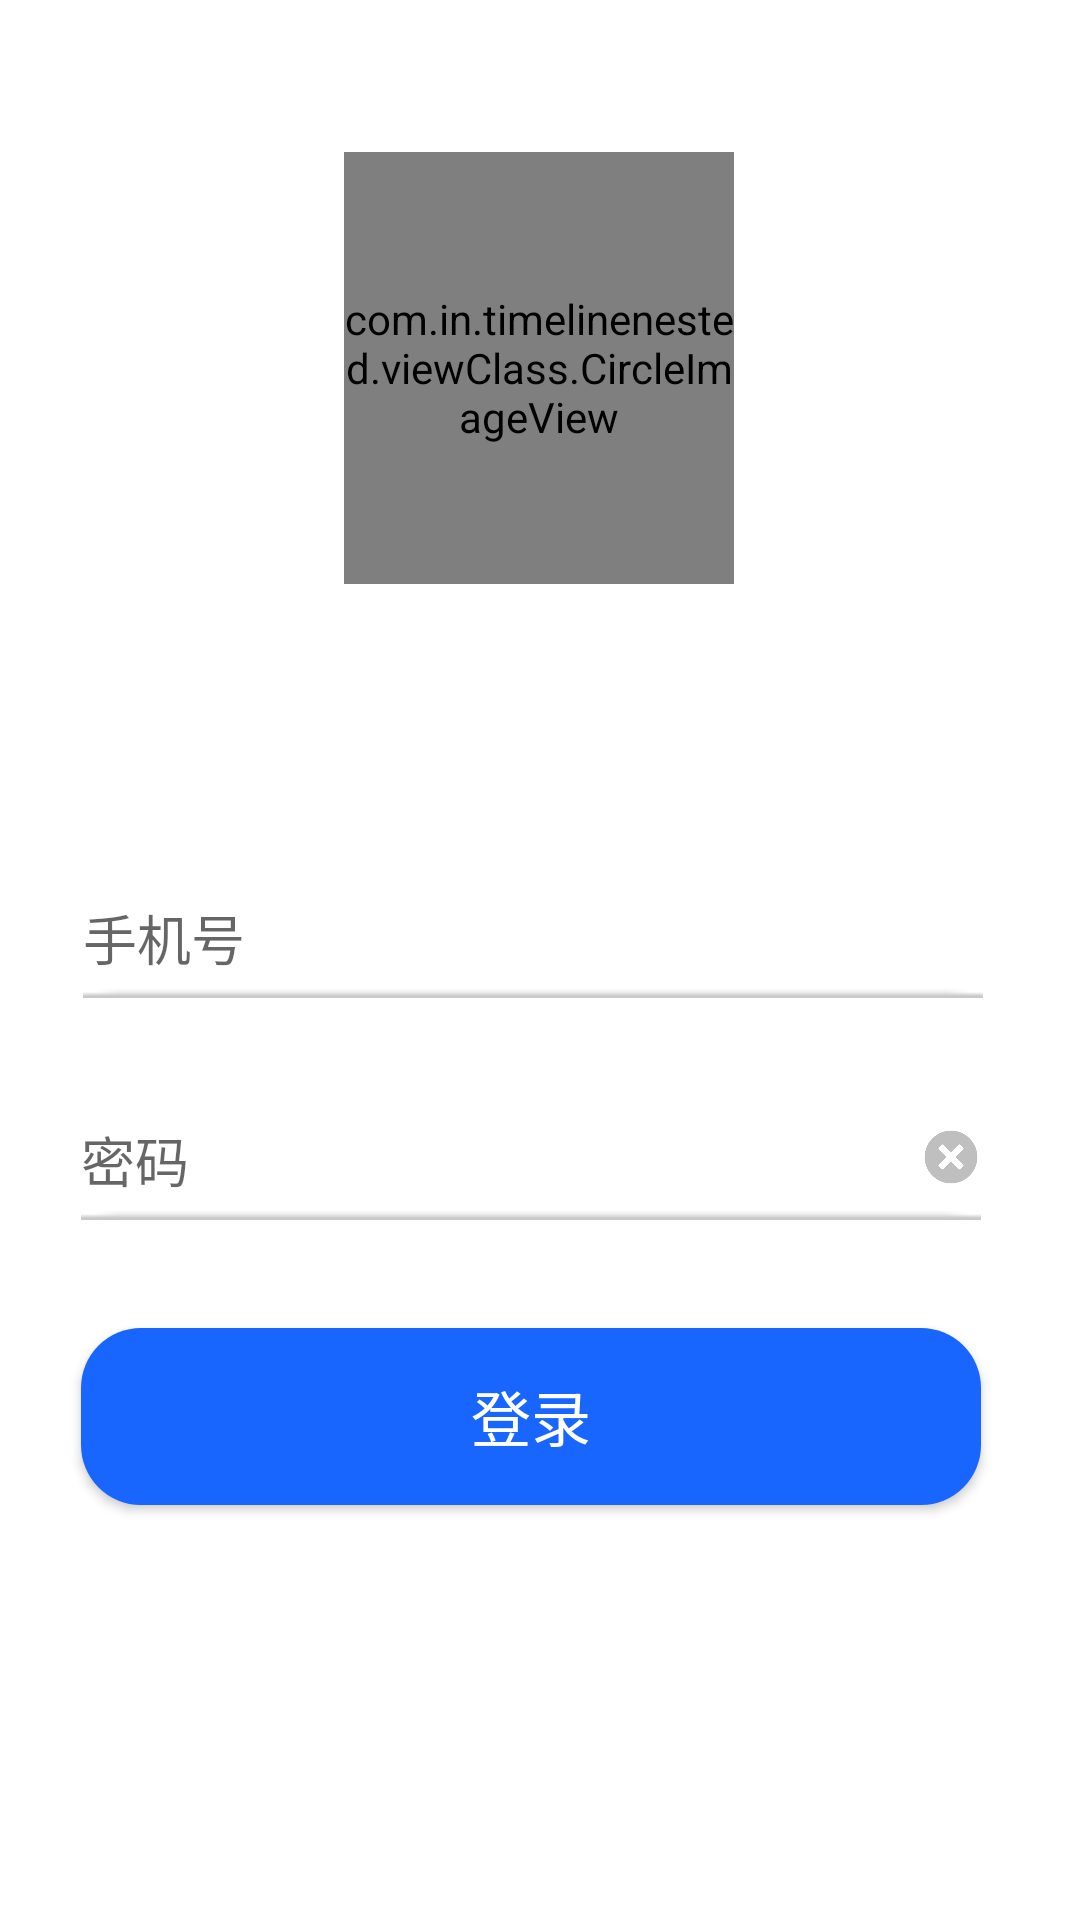

Icons on this 1080*1920 Android screen, each with the point to tap as (x=x, y=y):
clear: (x=951, y=1157)
